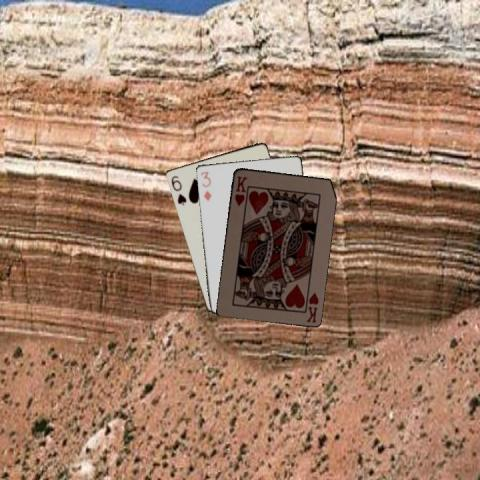3d: (197, 169, 213, 202)
6s: (168, 172, 187, 206)
Kh: (231, 173, 249, 207), (303, 290, 320, 324)
